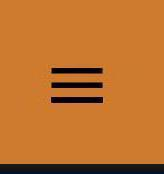ImgButton: (1, 1, 163, 173)
